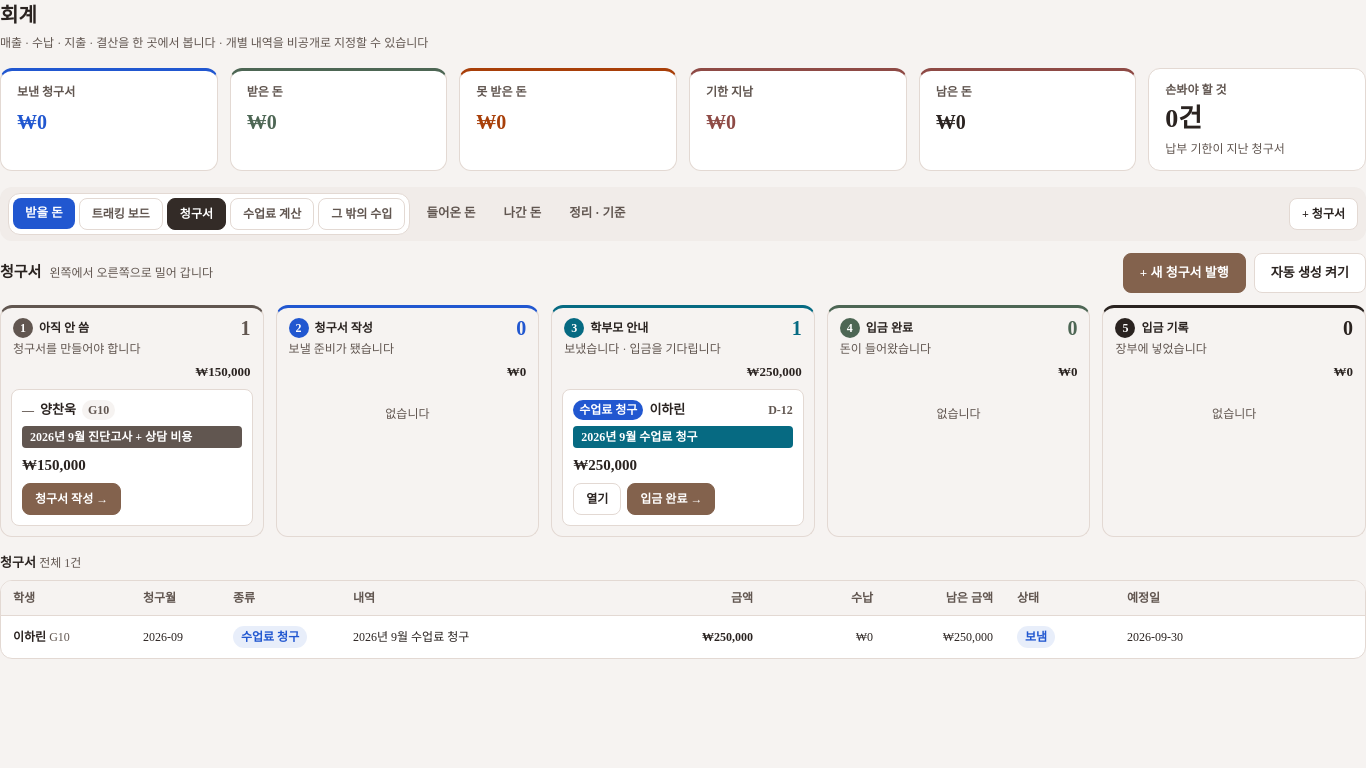
§53 ③ 「입금 완료 →」은 들어온 돈 › 입금 기록을 그 청구서로 연다 · ① 「청구서 작성 →」은 발행 칸을 그 대상으로 채운다 (N-28 ②)
expect the button with aria-label "이하린 입금 완료 →" is shown: met, box top-left (627, 482), bottom-right (716, 514)
Click the button with aria-label "양찬욱 2026년 9월 진단고사 + 상담 비용 청구서 작성 →" at (72, 498), box top-left (22, 482), bottom-right (121, 514)
(page scrolled)
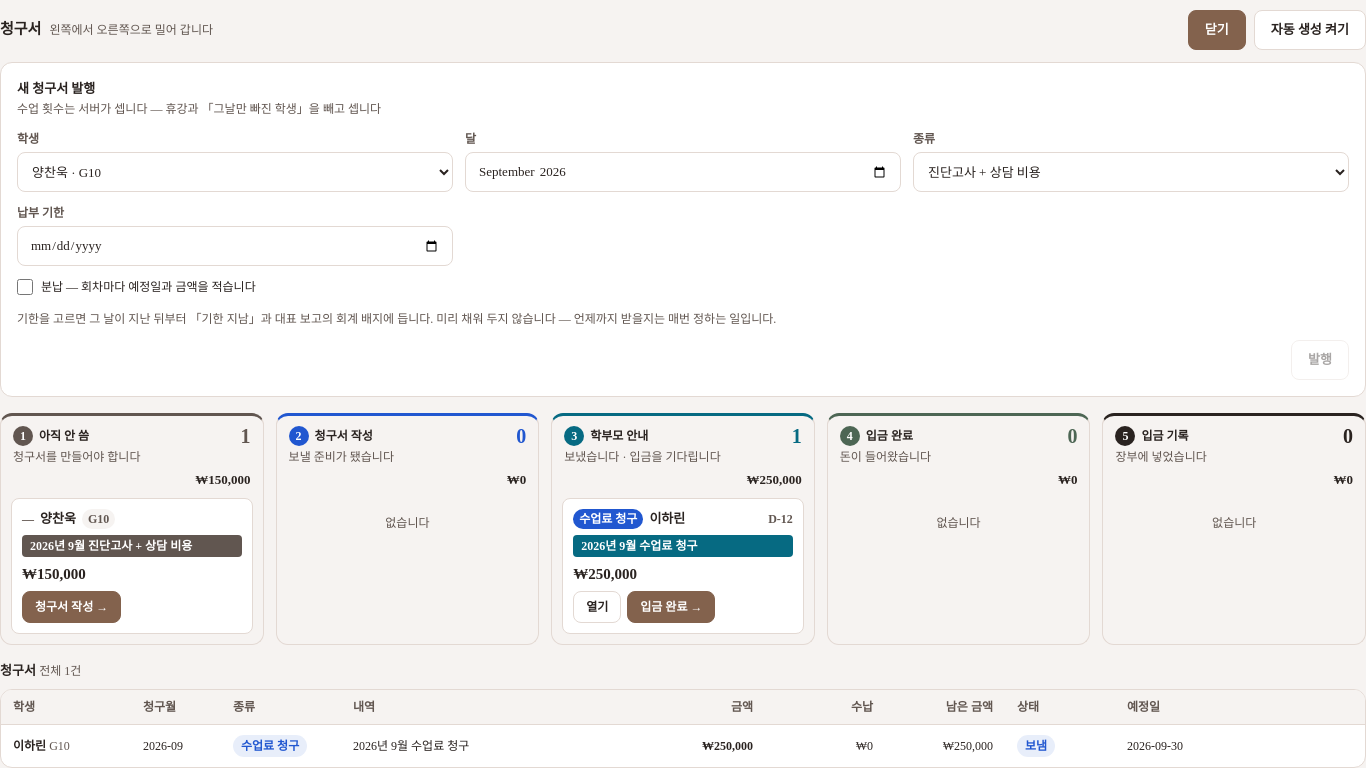
expect the dropdown labelled "학생" shows "양찬욱 · G10": met, box top-left (17, 152), bottom-right (453, 192)
expect the dropdown labelled "종류" shows "진단고사 + 상담 비용": met, box top-left (913, 152), bottom-right (1349, 192)
expect the date field labelled "납부 기한" is empty: met, box top-left (17, 226), bottom-right (453, 266)
Click the button with aria-label "이하린 입금 완료 →" at (671, 607), box top-left (627, 591), bottom-right (716, 623)
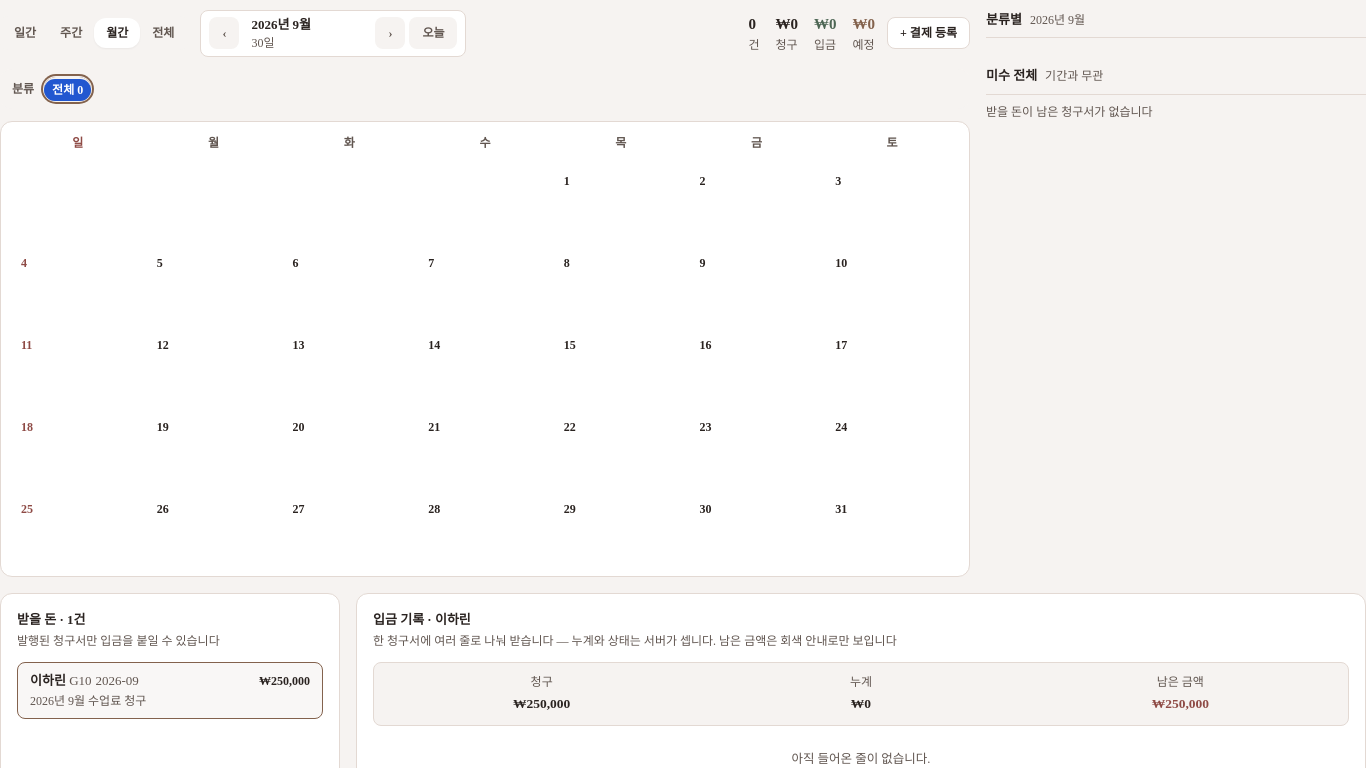
expect the heading "입금 기록 · 이하린" is shown: met, box top-left (373, 612), bottom-right (471, 627)
